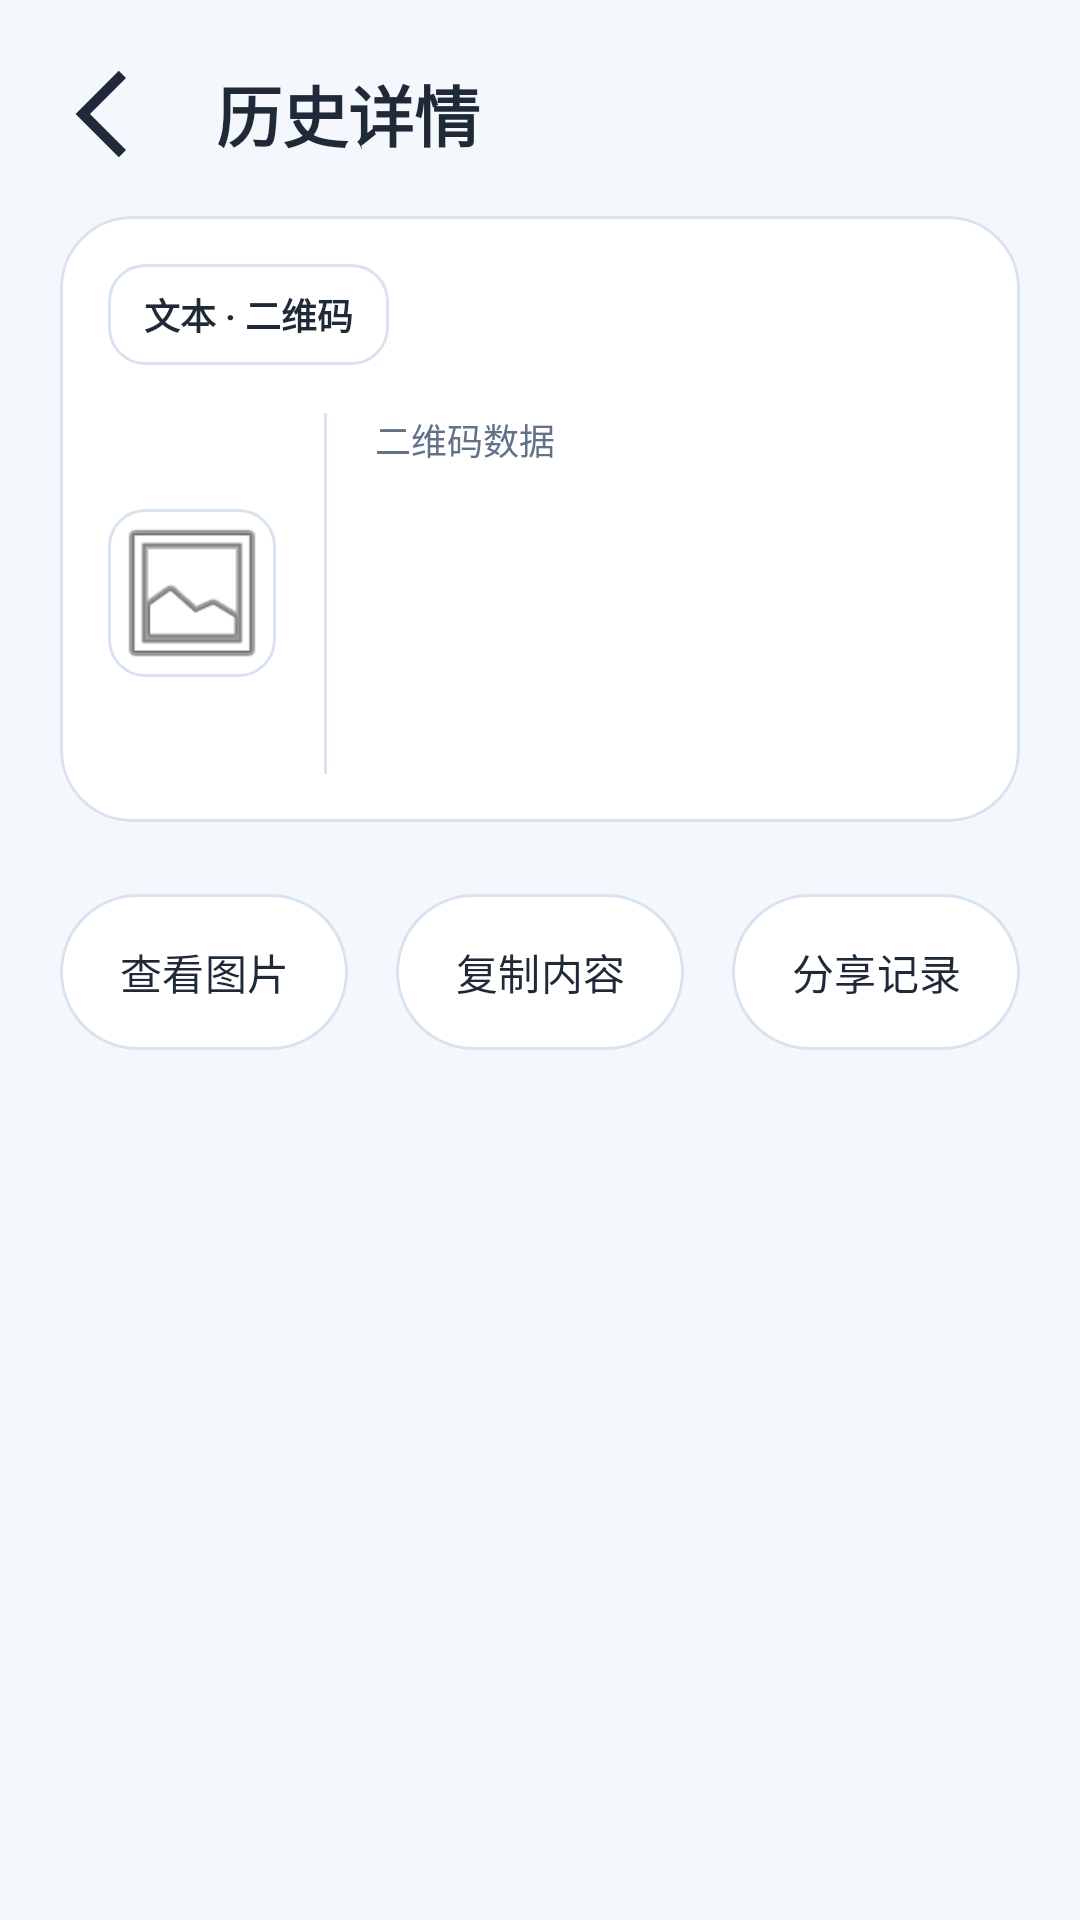

Icon bounding boxes for this 1080 x 1920 phone screenshot, format (x1, y1, x2, y2):
查看图片: (108, 509, 276, 677)
返回: (76, 71, 126, 157)
